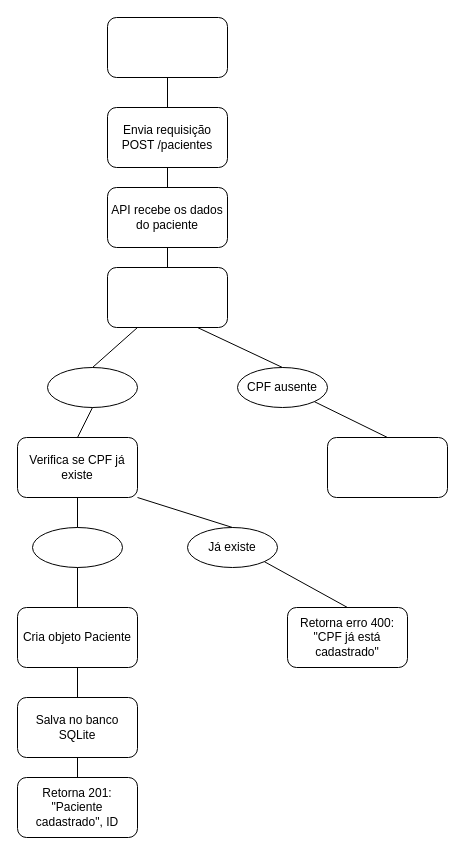
Some shapes in this 465 by 855 pixel diagram are drawn without their labels. The centre of each missing label's shape, as x and y in pixels:
CPF OK: point 92,387
Não existe: point 77,547
Retorna erro 400: "CPF é obrigatório": point 387,467
Usuario: point 167,47
Valida se CPF foi enviado: point 167,297
